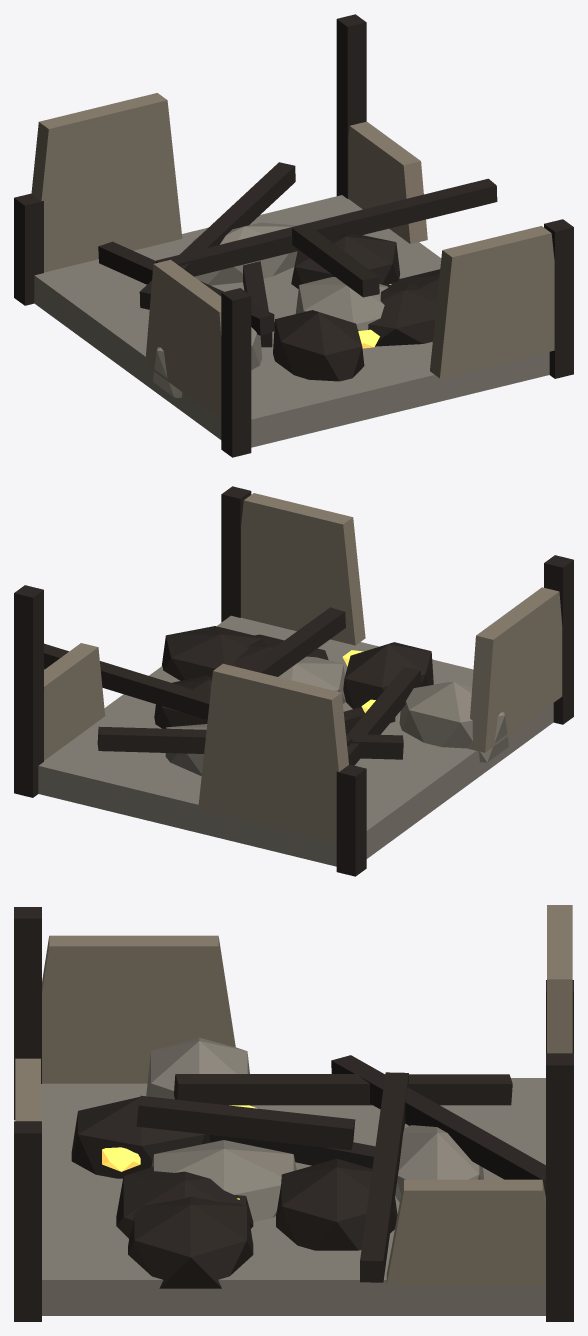
Rendered from Dorf_Backhaus_Ruine.fbx.
3 views of the same model, one above another, from view 1: azimuth 30°, elevation 25°; view 2: azimuth 150°, elevation 25°; view 3: azimuth 270°, elevation 25° (orthographic). The views are drawn at different scales.
Parts seen in each view (by area): view 1: Dorf_Backhaus_Ruine; view 2: Dorf_Backhaus_Ruine; view 3: Dorf_Backhaus_Ruine.
Part boxes in pixels (x1,y1,x2,y2): Dorf_Backhaus_Ruine: (14,14,573,457); Dorf_Backhaus_Ruine: (14,486,573,876); Dorf_Backhaus_Ruine: (14,905,573,1321).
Size of the model in its own units: 5.11 by 2.5 by 4.78.
